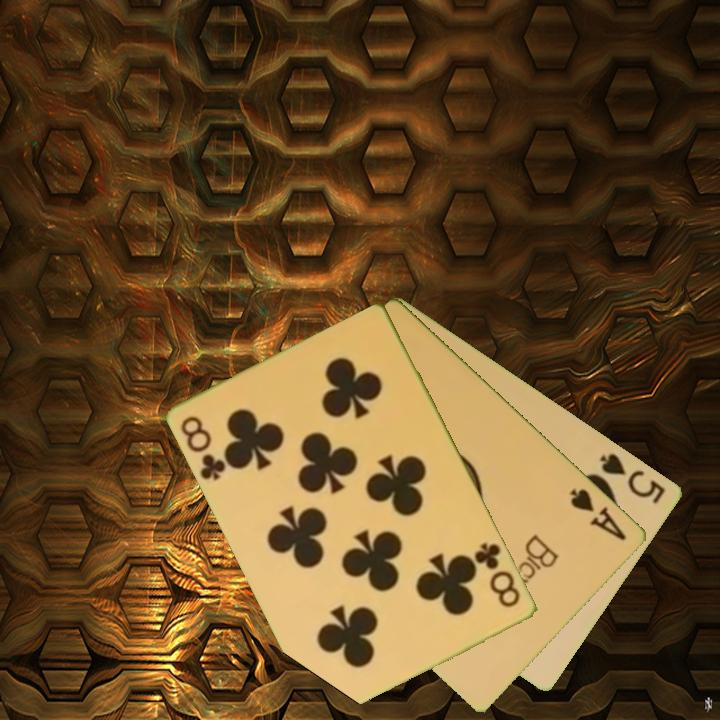5s: (597, 449, 669, 507)
8c: (471, 539, 524, 611), (178, 412, 230, 484)
As: (566, 484, 630, 544)
